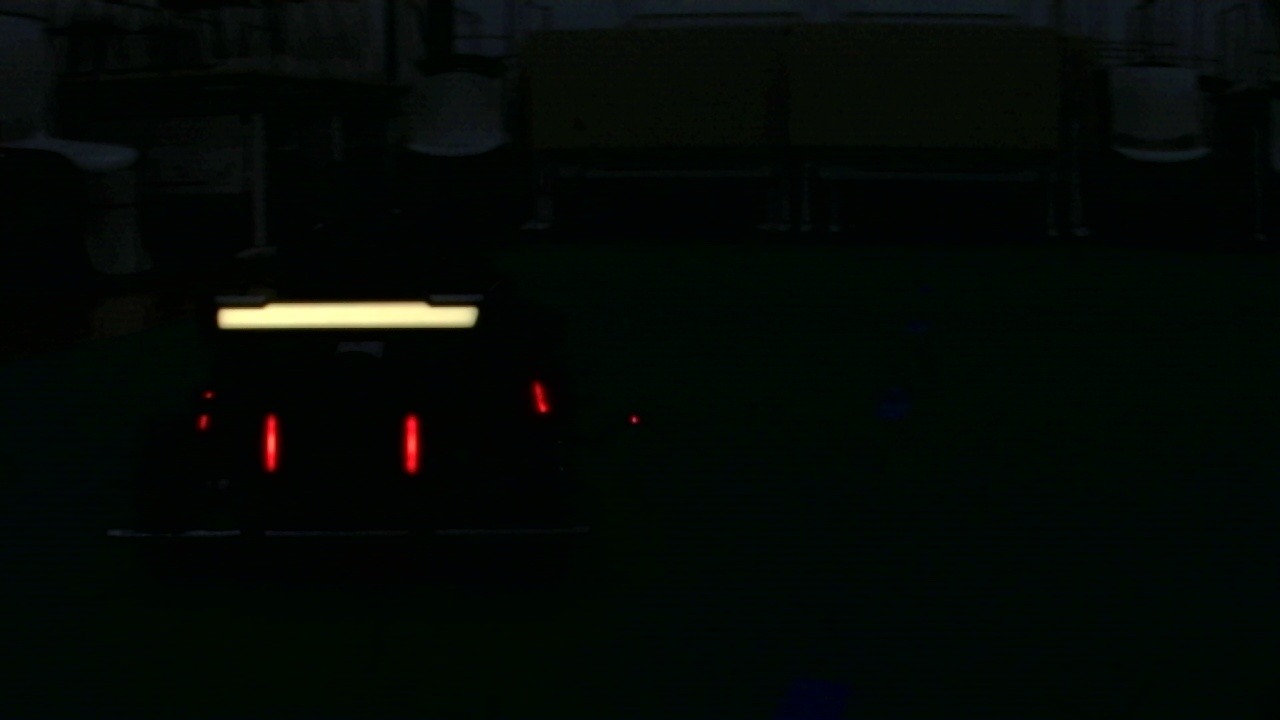lamp: (399, 409, 420, 479), (262, 417, 280, 476), (530, 376, 551, 417)
notpair1: (395, 377, 551, 478)
pair1: (263, 413, 423, 481)
